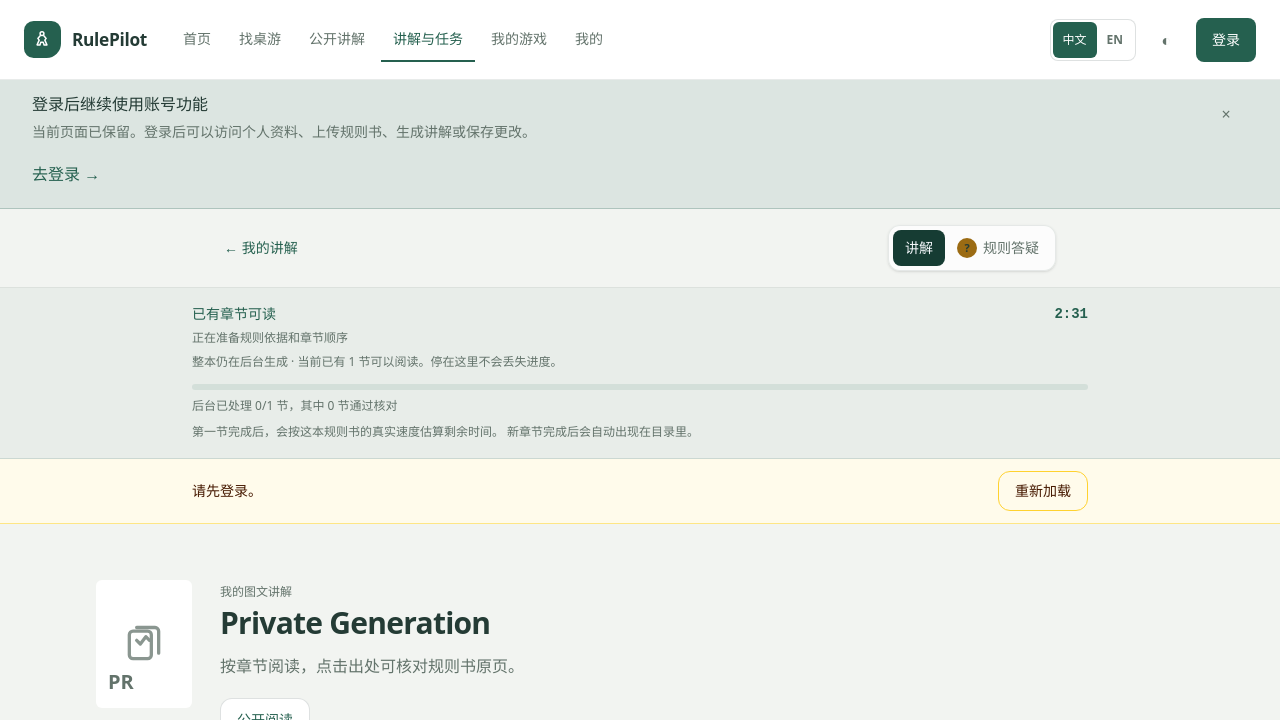
Test case: LessonView progressive reading › stops active lesson polling after a 401 identity response and retries only on request
expect the message with test id "lesson-generation-auth-stopped" shows "请先登录": met, box 192,481 -> 262,500
Click the button "重新加载". click: (1043, 491)
box: 998,471 -> 1088,511
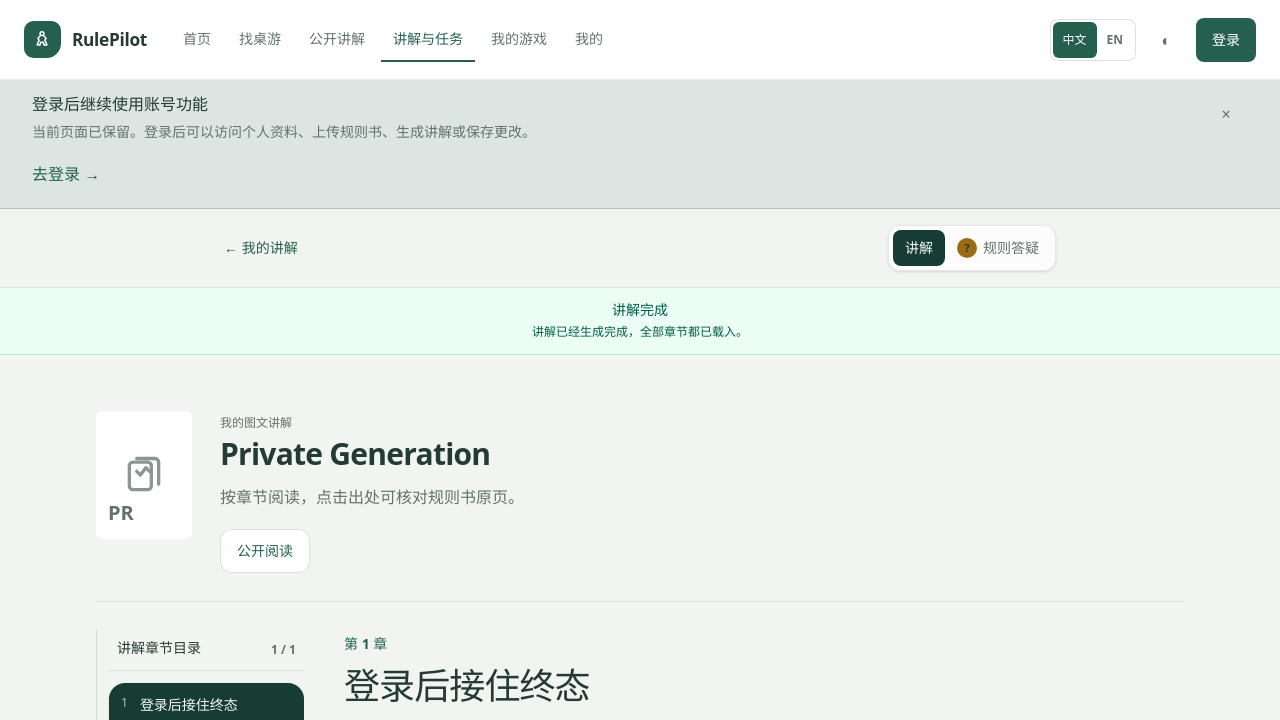
expect the text "登录后接住终态" is shown: met, box 140,694 -> 238,714
expect the text "讲解已经生成完成" is shown: met, box 532,323 -> 748,340
